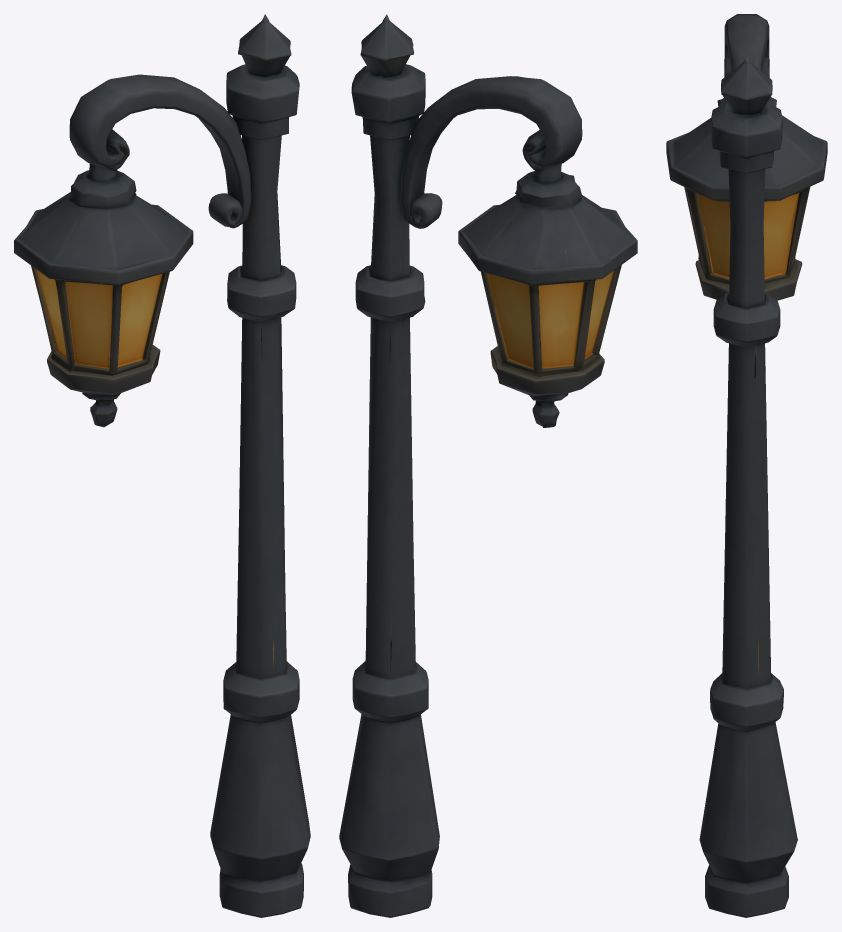
File: PRP_StreetLamp.fbx
3 views of the same model, side by side, from view 1: azimuth 30°, elevation 25°; view 2: azimuth 150°, elevation 25°; view 3: azimuth 270°, elevation 25° (orthographic). The views are drawn at different scales.
Visible parts, largest first — view 1: geometry_0; view 2: geometry_0; view 3: geometry_0.
Boxes of the visible parts, x1,y1,x2,y2 form: geometry_0: (14,14,310,917); geometry_0: (339,14,637,917); geometry_0: (666,14,827,917).
Bounding box in the file's own units: 31.2 × 95.12 × 16.46.
1 material, 1 textured.
